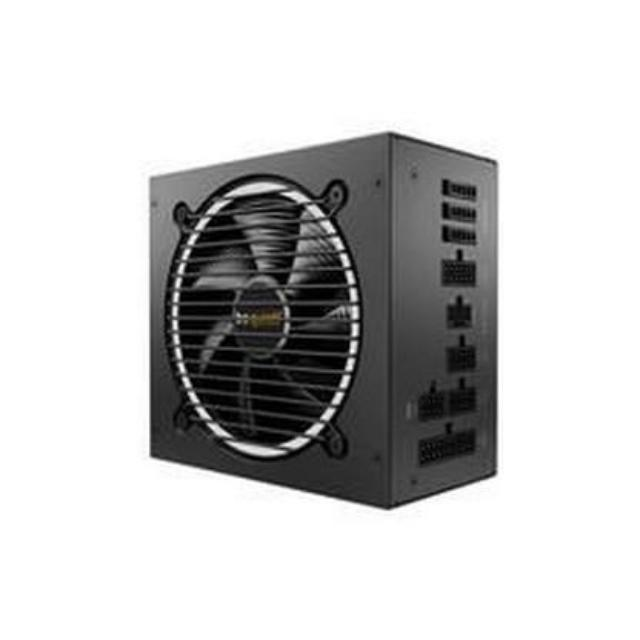PSU: (134, 125, 502, 523)
